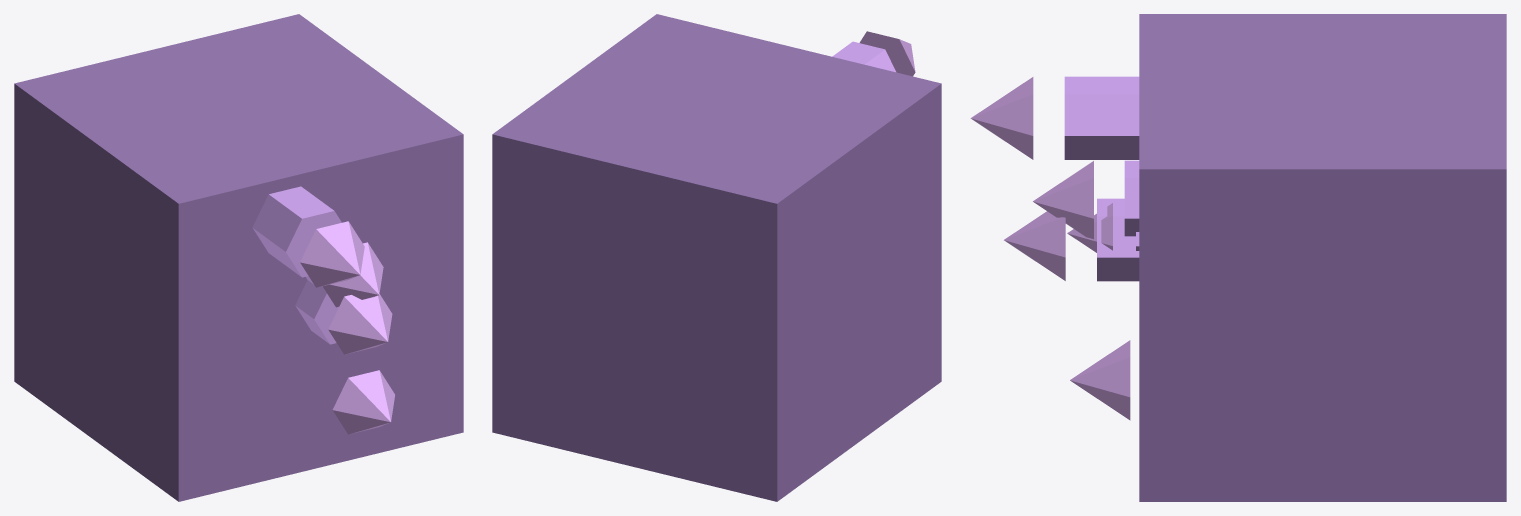
Rendered from 31_amethyst_geode.glb.
3 renders of one model, left to right at view 1: azimuth 30°, elevation 25°; view 2: azimuth 150°, elevation 25°; view 3: azimuth 270°, elevation 25°, orthographic. The views are drawn at different scales.
Parts seen in each view (by area): view 1: RockShell, Ore_5_shaft, Ore_5_point, Ore_6_point, Ore_3_point, Ore_4_point, Ore_3_shaft; view 2: RockShell, Ore_5_point, Ore_5_shaft; view 3: RockShell, Ore_5_shaft, Ore_5_point, Ore_3_shaft, Ore_6_point, Ore_4_point, Ore_3_point, Ore_4_shaft, Ore_2_point.
Part boxes in pixels (bbox=[...]): RockShell: bbox=[14, 14, 463, 501]; Ore_5_shaft: bbox=[252, 186, 341, 277]; Ore_5_point: bbox=[300, 221, 364, 287]; Ore_6_point: bbox=[332, 370, 394, 434]; Ore_3_point: bbox=[328, 294, 392, 354]; Ore_4_point: bbox=[323, 242, 383, 307]; Ore_3_shaft: bbox=[295, 280, 338, 344]; RockShell: bbox=[492, 14, 941, 501]; Ore_5_point: bbox=[859, 31, 915, 76]; Ore_5_shaft: bbox=[832, 41, 895, 72]; RockShell: bbox=[1139, 14, 1506, 501]; Ore_5_shaft: bbox=[1064, 76, 1139, 159]; Ore_5_point: bbox=[970, 77, 1033, 159]; Ore_3_shaft: bbox=[1097, 198, 1139, 281]; Ore_6_point: bbox=[1070, 340, 1130, 420]; Ore_4_point: bbox=[1033, 161, 1093, 239]; Ore_3_point: bbox=[1004, 211, 1065, 280]; Ore_4_shaft: bbox=[1124, 160, 1139, 236]; Ore_2_point: bbox=[1067, 203, 1112, 252].
Bounding box in the file's own units: 1.02 × 1.02 × 1.49.
